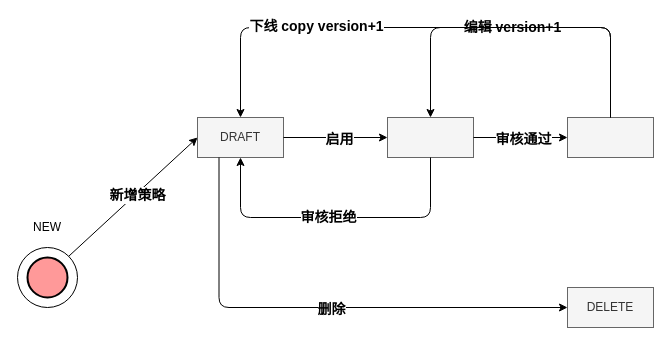
Some shapes in this 671 by 345 pixel diagram are drawn without their labels. Each missing label, with the centre of its shape:
"AUDIT" goes at pixel 430 137.
"RUNNING" goes at pixel 610 137.
